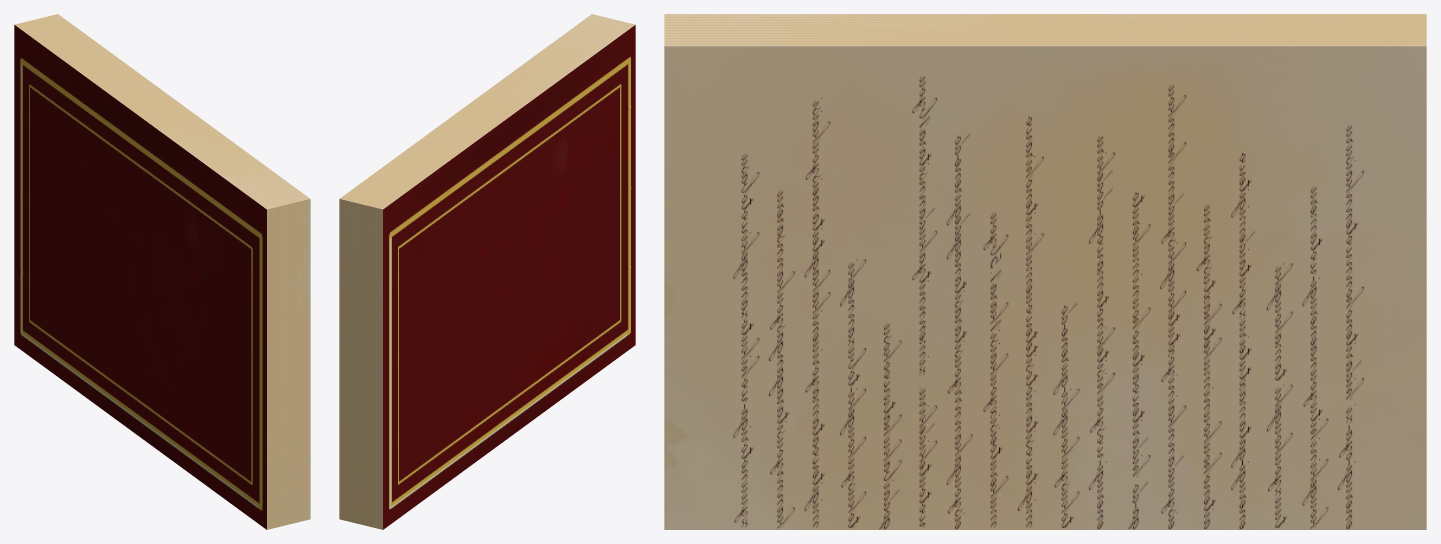
Rendered from hon.fbx.
3 renders of one model, left to right at view 1: azimuth 30°, elevation 25°; view 2: azimuth 150°, elevation 25°; view 3: azimuth 270°, elevation 25°, orthographic. The views are drawn at different scales.
Visible parts, largest first — view 1: Cube.001; view 2: Cube.001; view 3: Cube.001.
Boxes of the visible parts, x1,y1,x2,y2 form: Cube.001: (14,14,310,529); Cube.001: (339,14,635,529); Cube.001: (664,14,1426,529).
Bounding box in the file's own units: 0.02 × 0.14 × 0.2.
